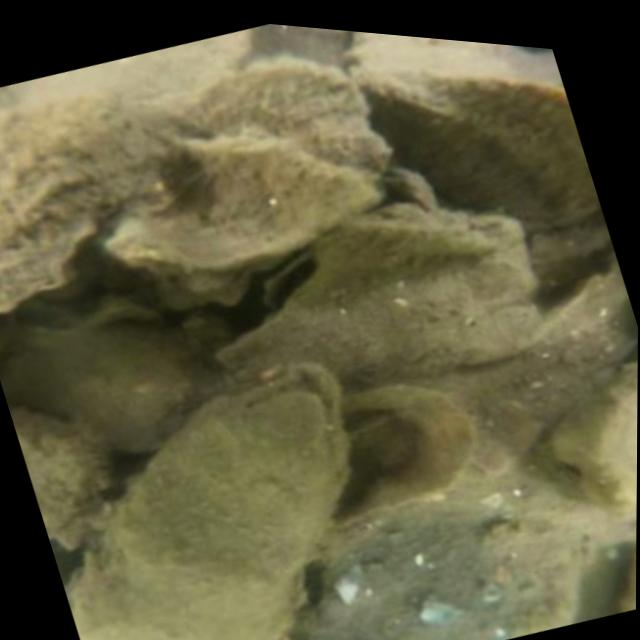Oyster-Closed: (75, 359, 350, 640), (107, 132, 440, 308)
Oyster-Indeterminate: (219, 205, 547, 386), (348, 53, 595, 225), (306, 493, 585, 640), (0, 93, 179, 310), (154, 56, 399, 193), (0, 318, 206, 443), (313, 379, 481, 530), (18, 27, 257, 110), (13, 407, 112, 538), (361, 32, 527, 69)
